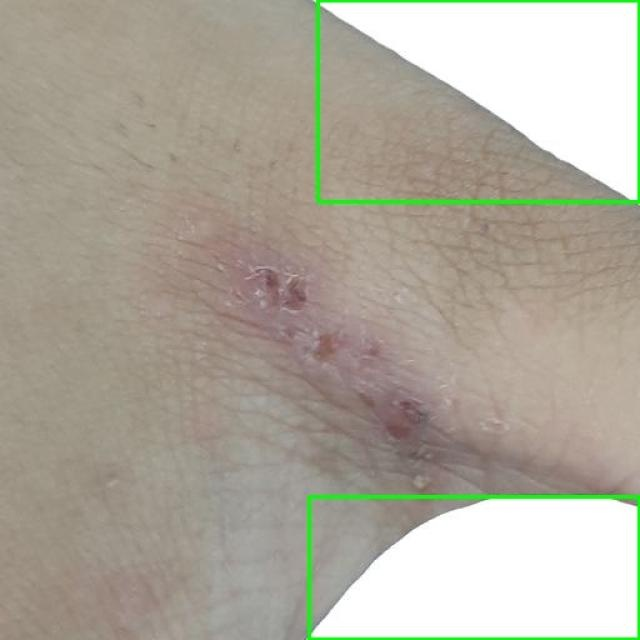Scabies: (318, 0, 639, 201), (309, 496, 639, 639)
